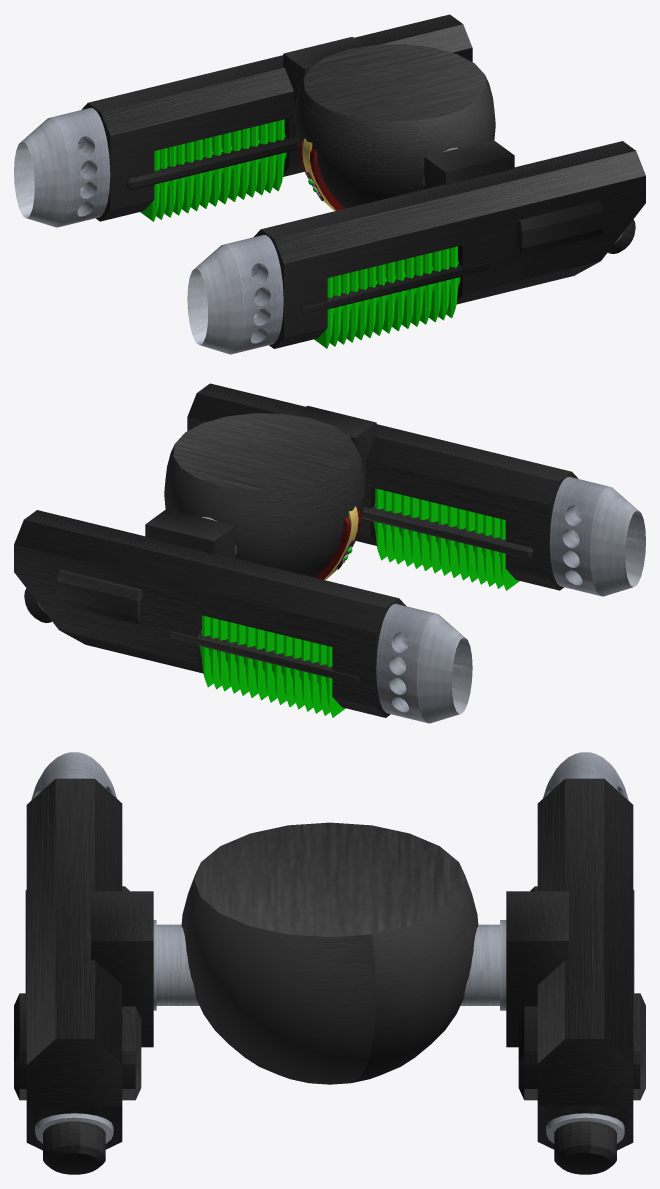
The model's file is Boss3PlasmaGun.fbx.
3 views of the same model, one above another, from view 1: azimuth 30°, elevation 25°; view 2: azimuth 150°, elevation 25°; view 3: azimuth 270°, elevation 25° (orthographic). The views are drawn at different scales.
Parts seen in each view (by area): view 1: polySurface41; view 2: polySurface41; view 3: polySurface41.
Boxes of the visible parts, box(x1,y1,x2,y2) form: polySurface41: box(14, 14, 645, 354); polySurface41: box(14, 383, 645, 723); polySurface41: box(14, 752, 645, 1174).
Size of the model in its own units: 23.11 by 7.7 by 19.78.
12 materials, 11 textured.
